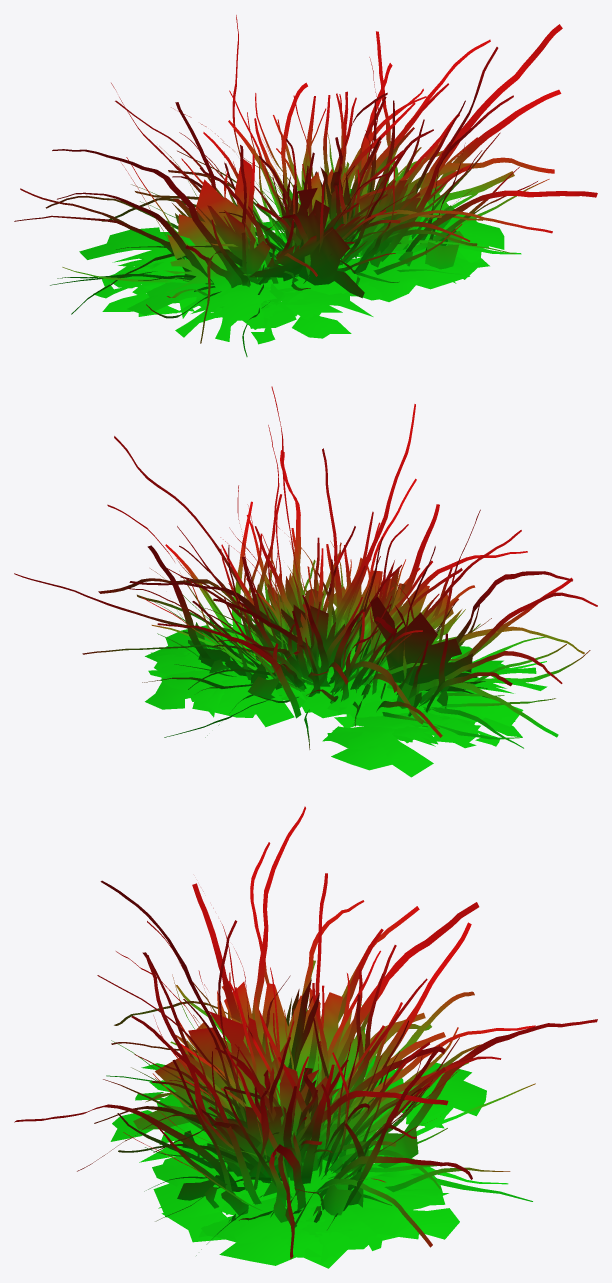
The model's file is Wild Grass_LOD0_Var5_vczndjqja.fbx.
3 renders of one model, top to bottom at view 1: azimuth 30°, elevation 25°; view 2: azimuth 150°, elevation 25°; view 3: azimuth 270°, elevation 25°, orthographic. The views are drawn at different scales.
Visible parts, largest first — view 1: _44vk_Var5_LOD0; view 2: _44vk_Var5_LOD0; view 3: _44vk_Var5_LOD0.
Part boxes in pixels (<box>): _44vk_Var5_LOD0: <box>14,15,597,356</box>; _44vk_Var5_LOD0: <box>14,386,597,777</box>; _44vk_Var5_LOD0: <box>14,806,597,1268</box>.
Size of the model in its own units: 123 by 53.25 by 99.92.
